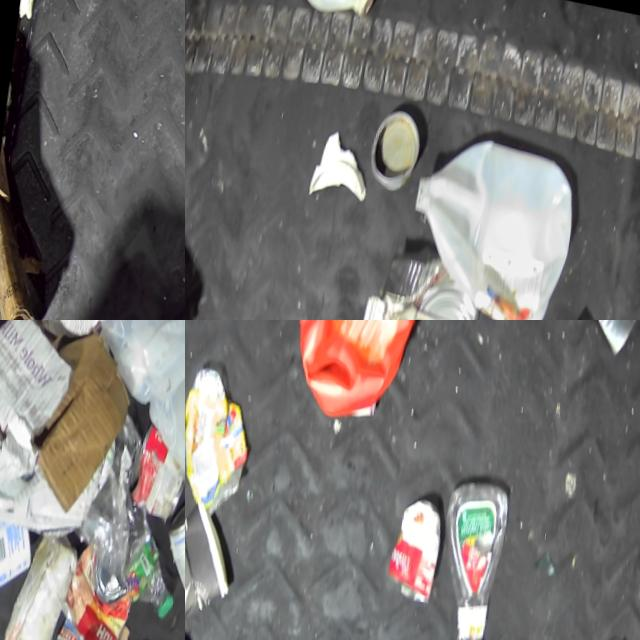can: (362, 232, 487, 320), (388, 484, 446, 606), (124, 411, 185, 515), (365, 97, 424, 192), (160, 484, 185, 588), (89, 544, 131, 599)
milk_jug: (398, 117, 582, 320), (90, 320, 185, 407), (137, 332, 185, 494), (267, 0, 381, 23)
non_white_jug: (283, 320, 428, 429)
plastic_bottle: (427, 458, 515, 640), (120, 504, 183, 611), (551, 618, 638, 640)
